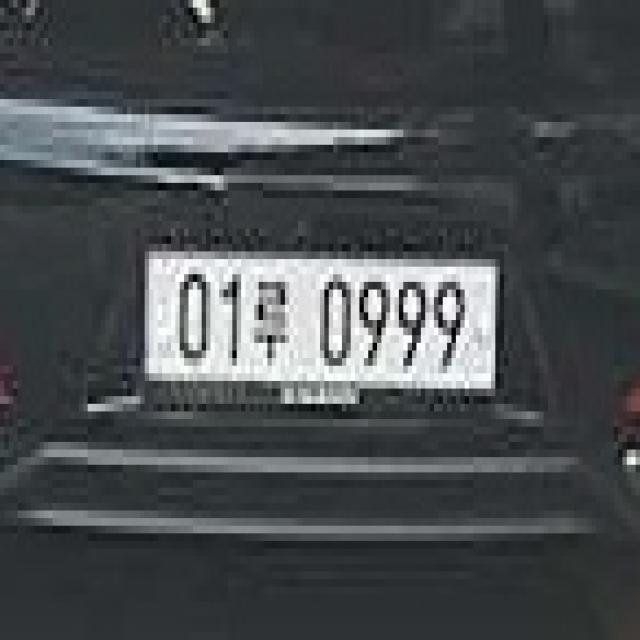0: (172, 268, 212, 370), (318, 272, 353, 371)
1: (218, 259, 248, 379)
9: (430, 271, 470, 379), (356, 266, 391, 372), (396, 268, 428, 382)
license_plate: (138, 233, 507, 415)
lu: (252, 269, 296, 378)
